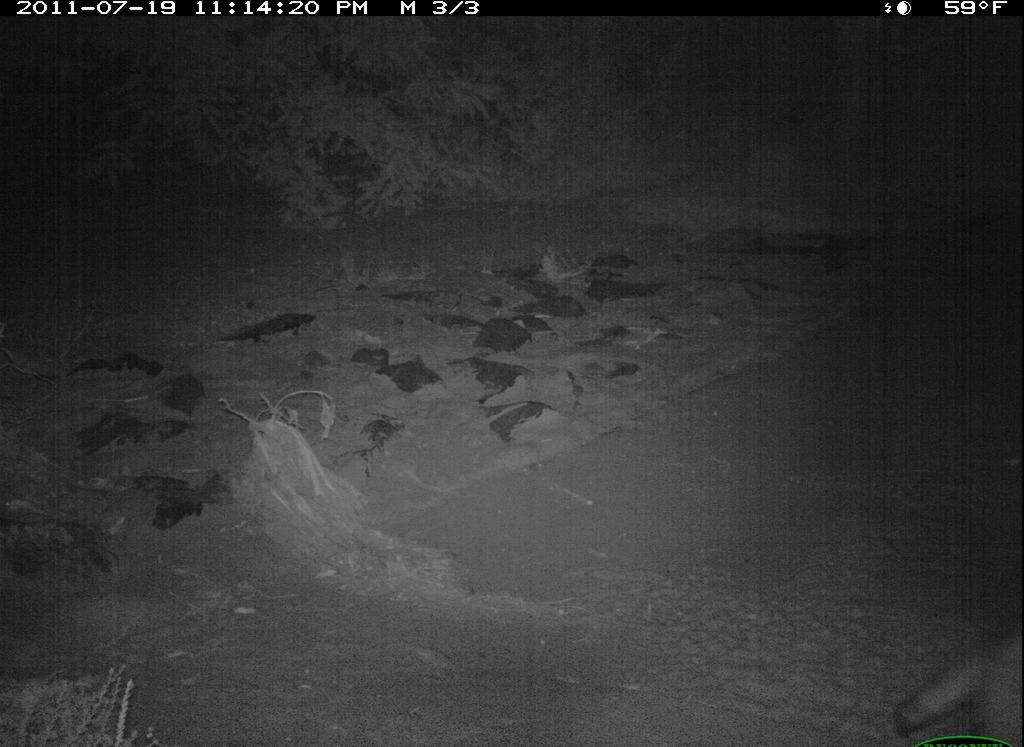raccoon: (889, 615, 1022, 737)
